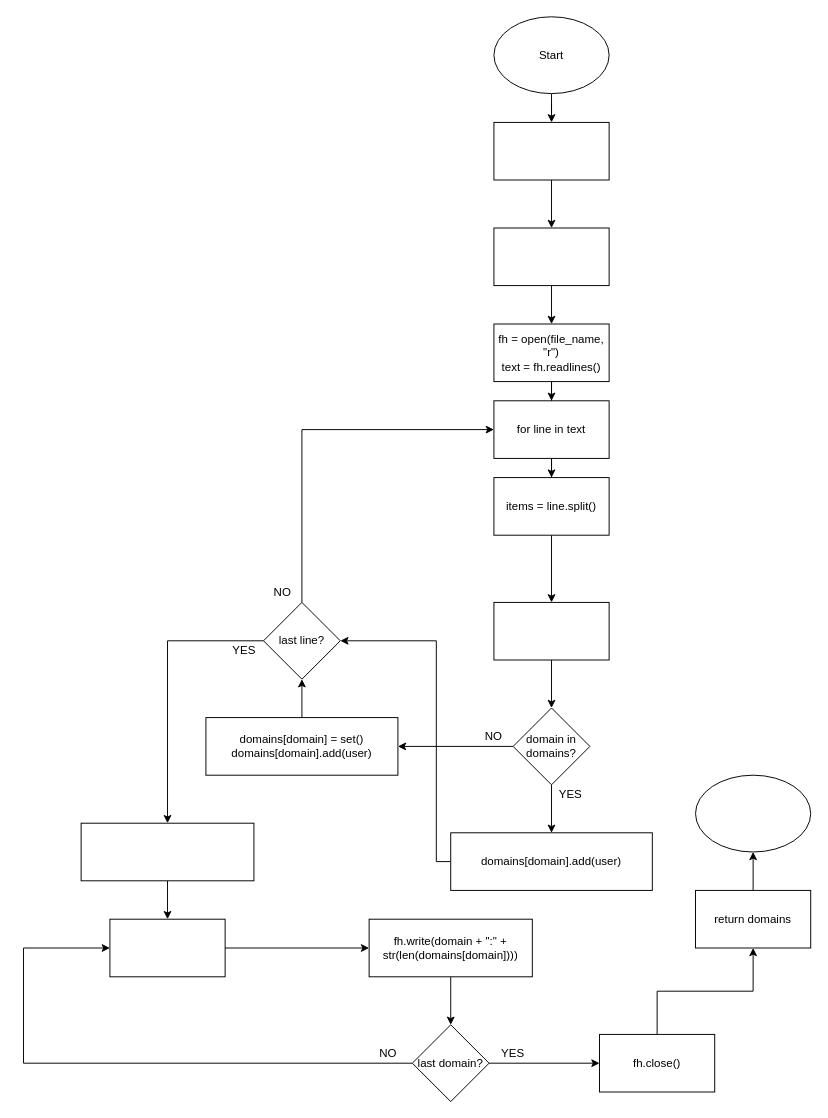
This 828x1118 diagram has some shape labels left out. The centre of each missing label's shape, as x and y in pixels:
domains = {}: pixel 551 150
fh = open("domain_report.txt", "a"): pixel 167 851
for domain, user in domain.items(): pixel 167 947
passin file_name as argument: pixel 551 256
Stop: pixel 753 813
use split('@') to get domain = domain's name user = user's name: pixel 551 630
